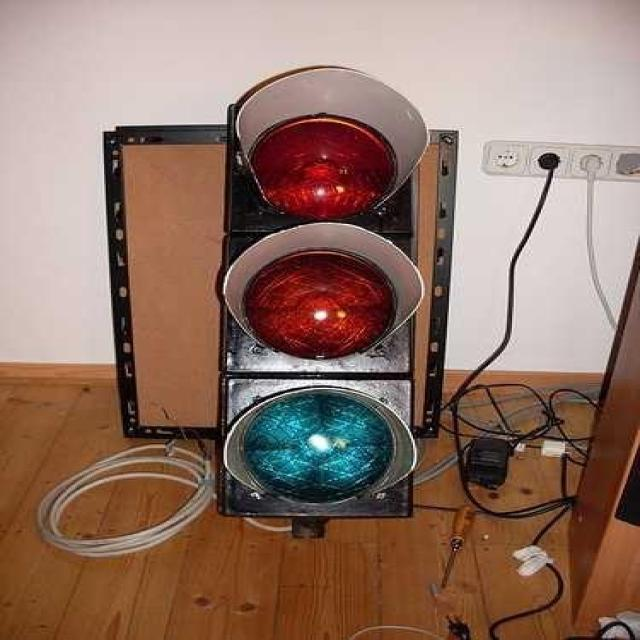Traffic Light -Red-: (212, 56, 428, 530)
